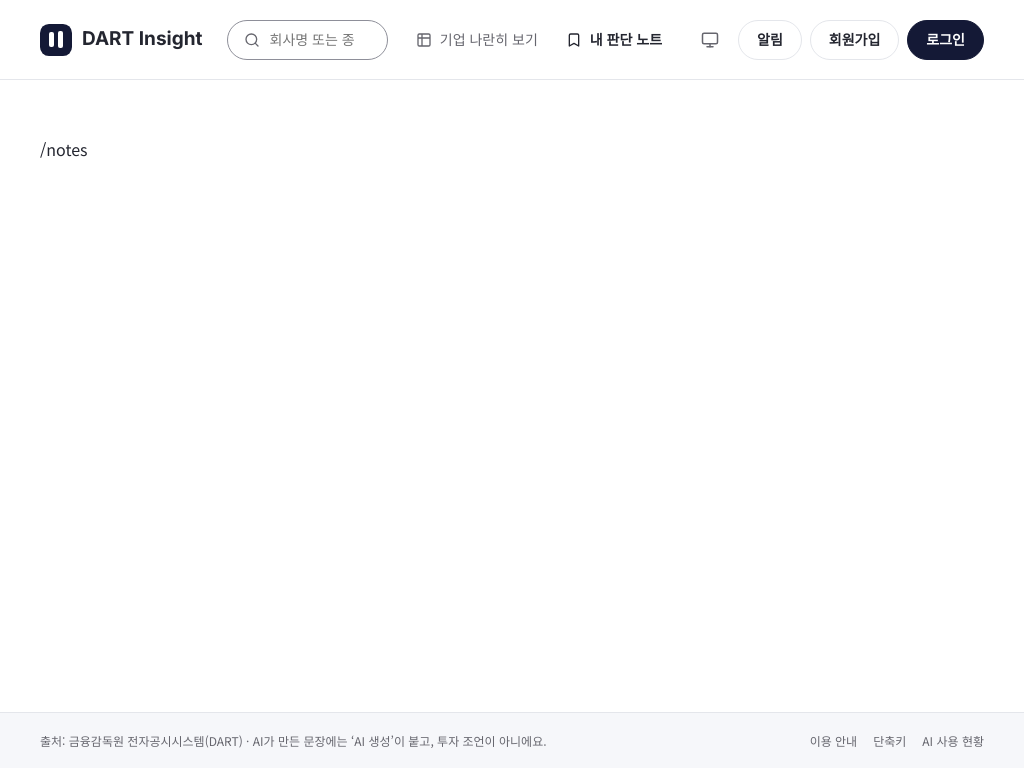
Test: Layout 상단 바·하단 바(#548) › 상단 바 검색어를 보내면 첫 화면 검색 결과로 간다
Type " 삼성 전자 " into the search field labelled "회사명 또는 종목코드" at (319, 40), box [268,27,371,52]
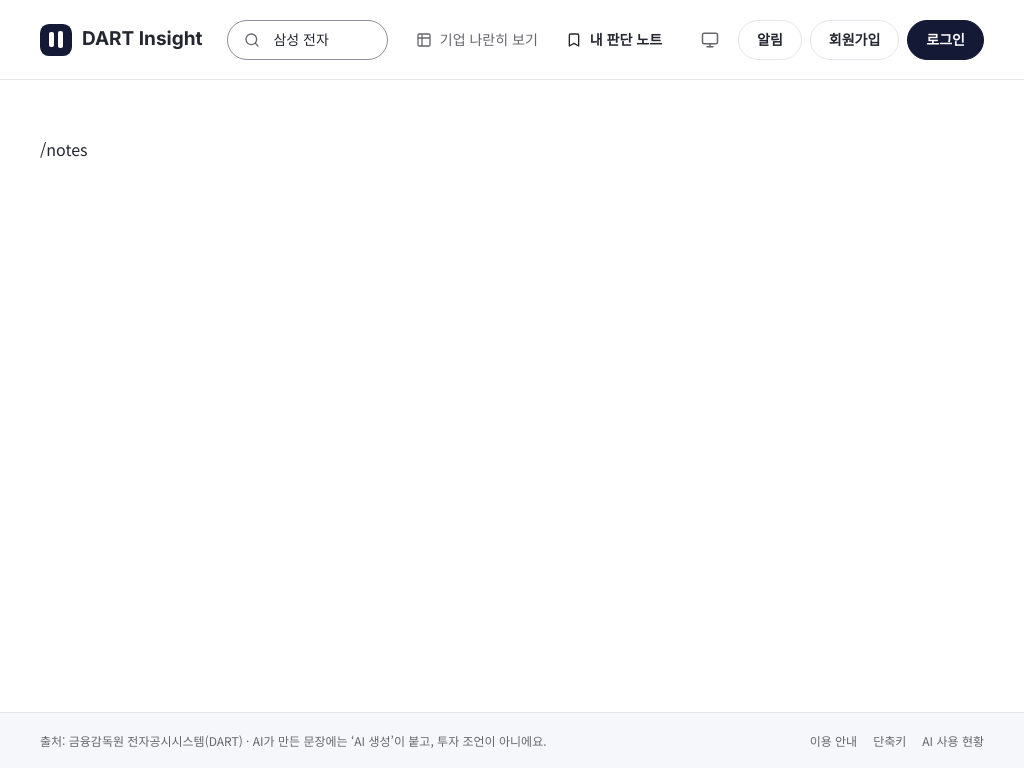
Submit the form named "기업 검색", box [226,20,388,60]
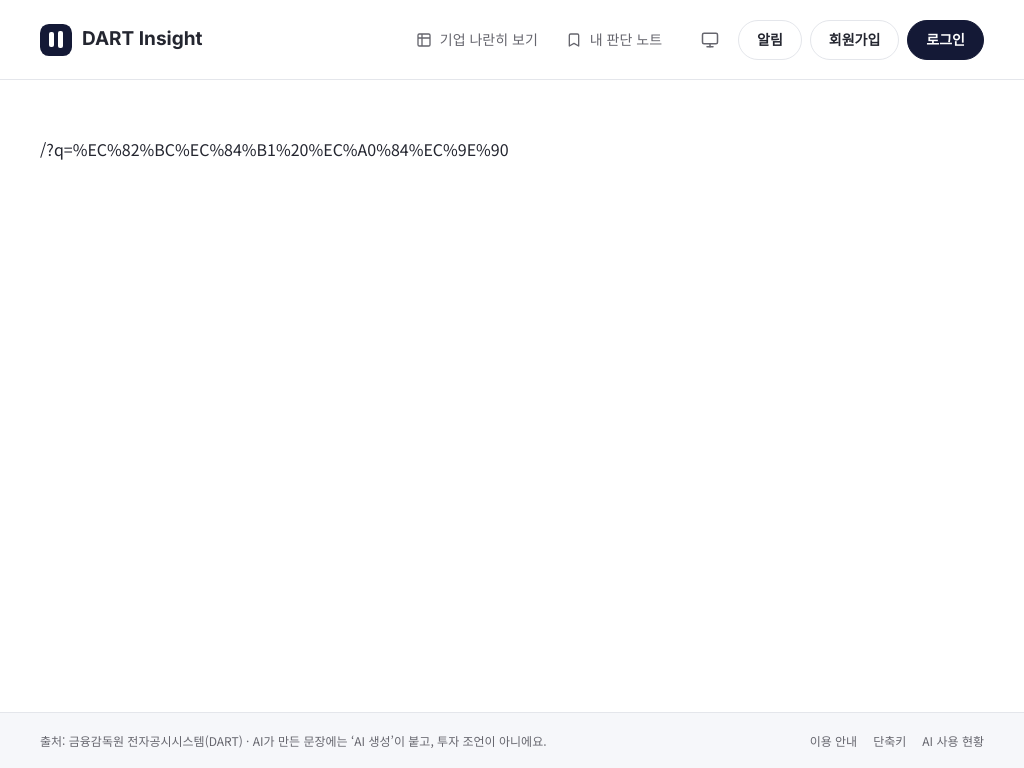
Expected: the text with test id "where" reads "/?q=%EC%82%BC%EC%84%B1%20%EC%A0%84%EC%9E%90", [40,137,509,161]
